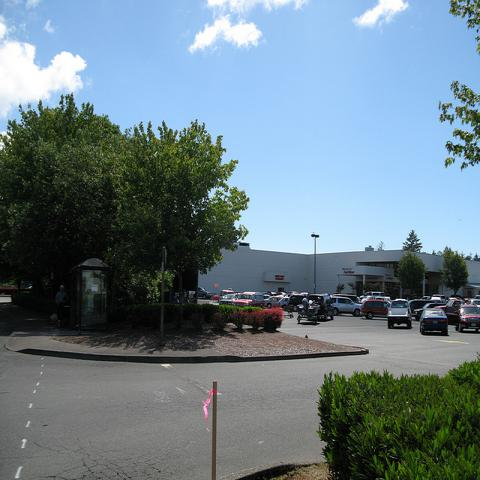car: (307, 293, 334, 322), (420, 308, 448, 335), (455, 304, 479, 333), (330, 296, 362, 317), (412, 303, 446, 321), (361, 300, 390, 320), (434, 305, 460, 327), (287, 294, 308, 311), (264, 296, 284, 308)
truck: (387, 299, 413, 329), (232, 291, 265, 308)
